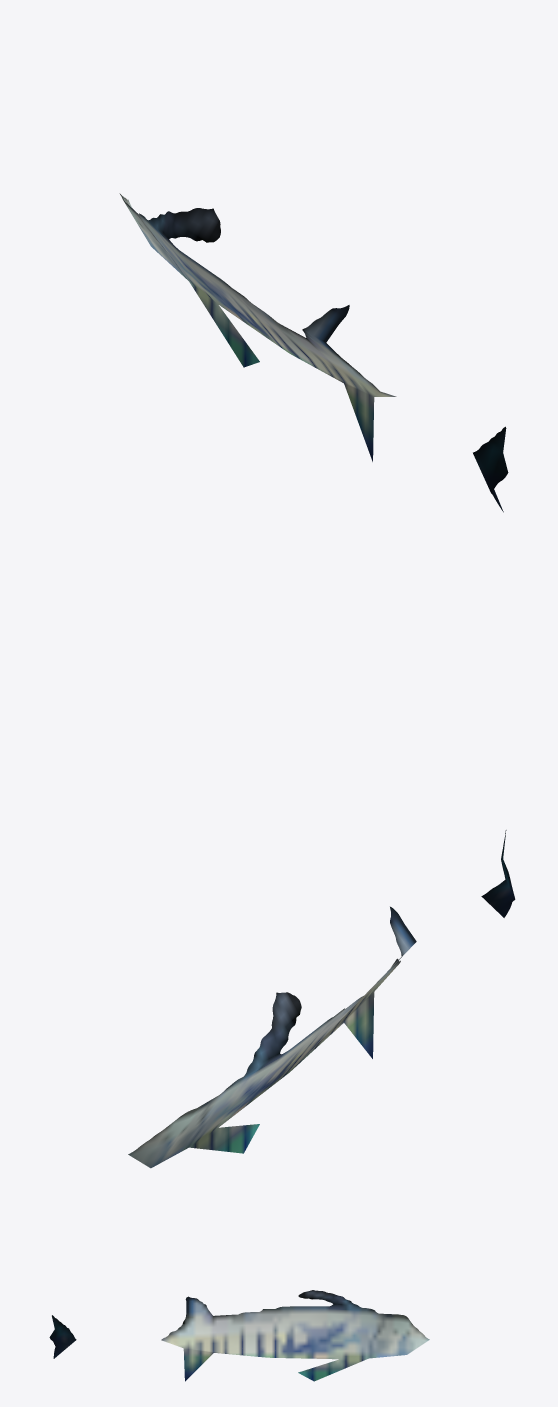
File: INST_LT_BMARLIN.obj
The picture shows the model from 3 angles, top to bottom: view 1: azimuth 30°, elevation 25°; view 2: azimuth 150°, elevation 25°; view 3: azimuth 270°, elevation 25°; orthographic projection. The views are drawn at different scales.
Parts seen in each view (by area): view 1: _b_marlin_LOD1_; view 2: _b_marlin_LOD1_; view 3: _b_marlin_LOD1_.
Boxes of the visible parts, bbox=[...] form: _b_marlin_LOD1_: bbox=[119, 193, 508, 512]; _b_marlin_LOD1_: bbox=[128, 830, 515, 1168]; _b_marlin_LOD1_: bbox=[49, 1290, 429, 1381].
Size of the model in its own units: 7.98 by 46.35 by 125.
